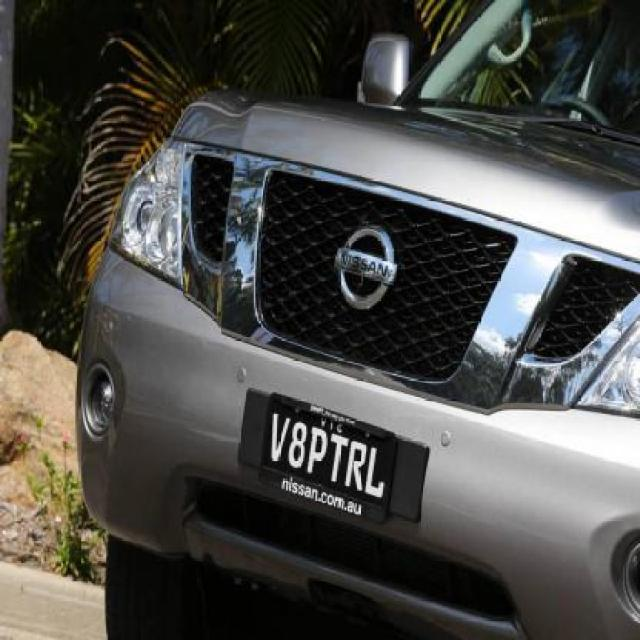Licenseplate: (227, 397, 427, 522)
